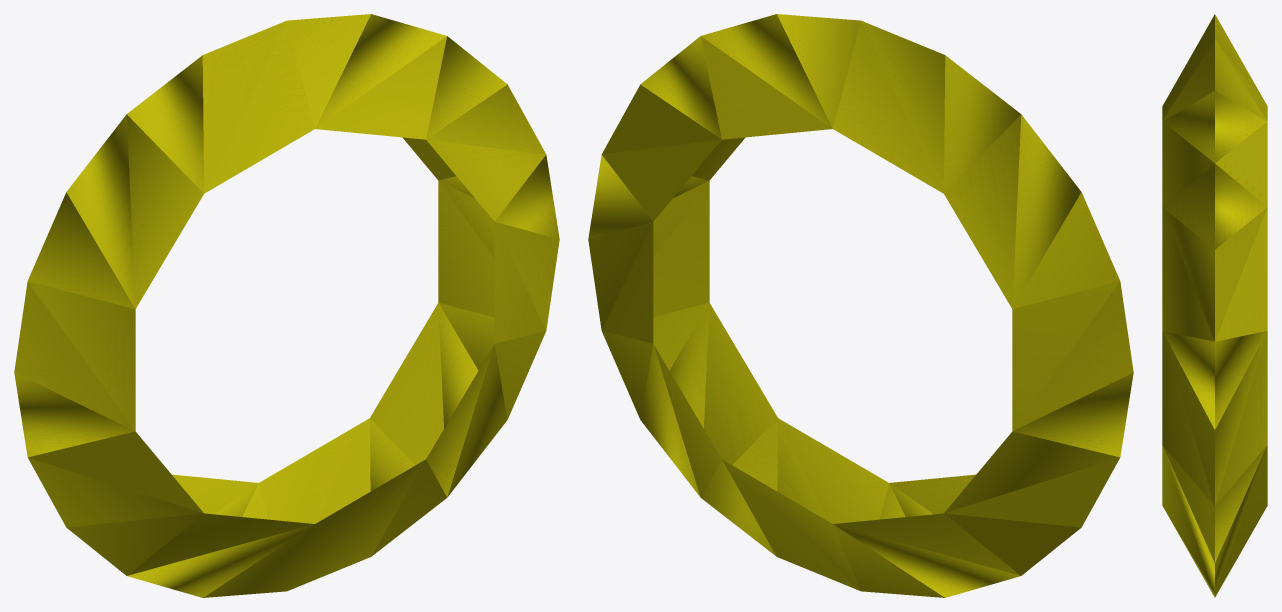
The model's file is Ring.obj.
3 renders of one model, left to right at view 1: azimuth 30°, elevation 25°; view 2: azimuth 150°, elevation 25°; view 3: azimuth 270°, elevation 25°, orthographic. The views are drawn at different scales.
Parts seen in each view (by area): view 1: Mesh_0311; view 2: Mesh_0311; view 3: Mesh_0311.
Part boxes in pixels (left/top/right/bottom): Mesh_0311: left=14, top=14, right=559, bottom=597; Mesh_0311: left=588, top=14, right=1133, bottom=597; Mesh_0311: left=1162, top=14, right=1267, bottom=597.
Bounding box in the file's own units: 0.608 × 0.608 × 0.1085.
1 material, 1 textured.
